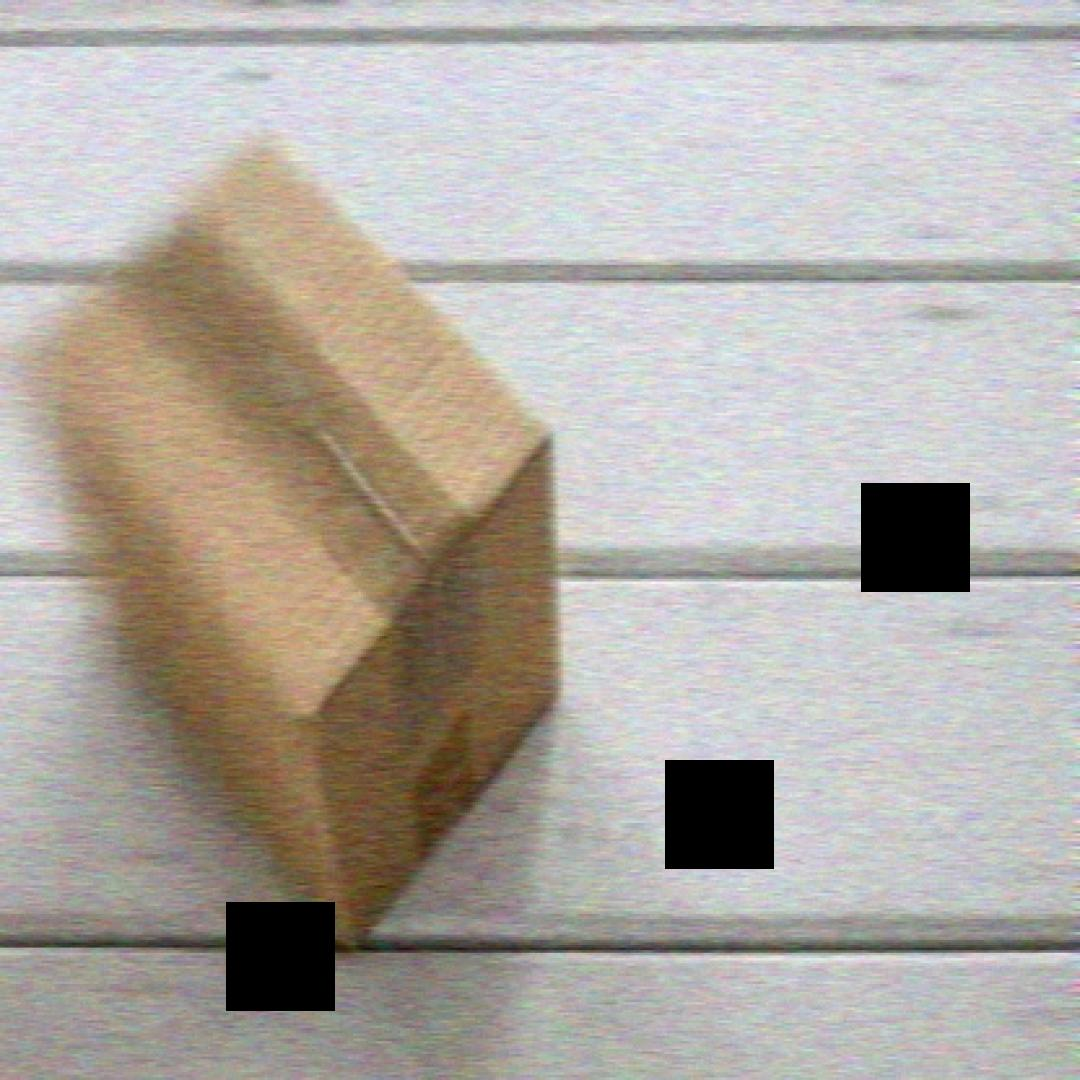package: (21, 119, 592, 982)
